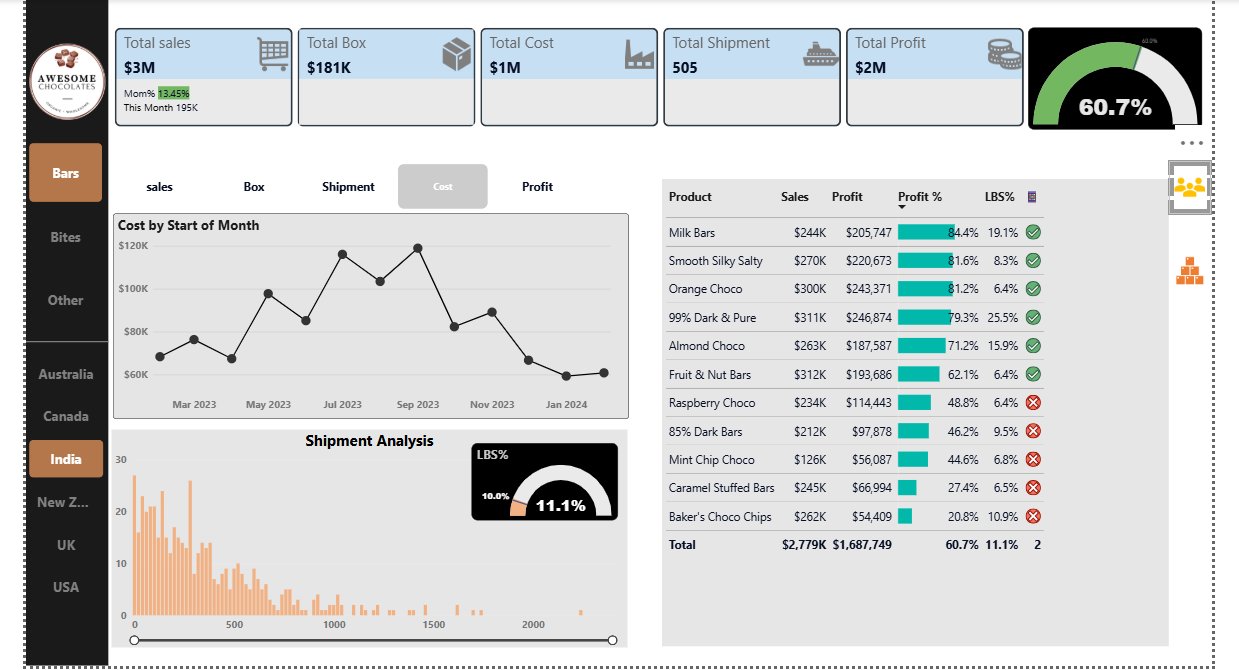

The dashboard page shown, as its layout file describes it:
{"tool":"powerbi","page":{"name":"Page 1","canvas":[1920,1080],"ordinal":0},"visuals":[{"type":"shape","box":[0,0,133.3,1079.5],"z":0},{"type":"cardVisual","fields":{"Data":["_Measures.Total sales","_Measures.Total Box","_Measures.Total Cost","_Measures.Total Shipment","_Measures.Total Profit"]},"box":[138.4,41.3,1484,170],"z":1000},{"type":"gauge","fields":{"Y":["_Measures.Profit %"]},"box":[1622.5,46.1,281.7,165.2],"z":2000},{"type":"image","box":[0,59,133.3,151.3],"z":3000},{"type":"lineChart","fields":{"Y":["_Measures.Total Cost"],"Category":["Celender(date).Start of Month"]},"box":[141,346.2,835,332.5],"z":4000},{"type":"advancedSlicerVisual","fields":{"Values":["Measure Selecter.Measure Selecter"]},"box":[137.5,262.5,770,82.5],"z":5000},{"type":"columnChart","title":"Shipment Analysis","fields":{"Category":["Shipment(Shipment)(in).Boxes (bins)"],"Y":["_Measures.Total Shipment"]},"box":[137.5,697.5,835,352.5],"z":6000},{"type":"gauge","fields":{"Y":["_Measures.LBS%"]},"box":[722.5,720,237.5,125],"z":7000},{"type":"tableEx","title":"Product Details","fields":{"Values":["Product(TABLE).Product","_Measures.Total sales","_Measures.Total Profit","_Measures.Profit %","_Measures.LBS%","_Measures.Profit Traget Indicater"]},"box":[1030.8,292.3,820.5,756.4],"z":9000},{"type":"image","title":"People Icon","box":[1851.3,261.5,66.7,84.6],"z":10000},{"type":"image","title":"Product Icon","box":[1851.3,389.7,66.7,102.6],"z":11000},{"type":"advancedSlicerVisual","fields":{"Values":["Product(TABLE).Category"]},"box":[0,228.2,128.2,312.8],"z":12000},{"type":"advancedSlicerVisual","fields":{"Values":["Location(data).Geo"]},"box":[0,571.8,130.8,420.5],"z":13000},{"type":"shape","box":[0,512.8,133.3,84.6],"z":14000}]}

Visuals, with their boxes in screenshot pixels (x1, y1, x2, y2):
shape: bbox(23, 0, 104, 658)
cardVisual - _Measures.Total sales x _Measures.Total Box: bbox(107, 22, 1017, 126)
gauge - _Measures.Profit %: bbox(1017, 25, 1190, 126)
image: bbox(23, 33, 104, 126)
lineChart - _Measures.Total Cost x Celender(date).Start of Month: bbox(109, 209, 621, 413)
advancedSlicerVisual - Measure Selecter.Measure Selecter: bbox(107, 158, 579, 208)
"Shipment Analysis" columnChart: bbox(107, 424, 619, 640)
gauge - _Measures.LBS%: bbox(465, 438, 611, 515)
"Product Details" tableEx: bbox(654, 176, 1157, 639)
"People Icon" image: bbox(1157, 157, 1198, 209)
"Product Icon" image: bbox(1157, 236, 1198, 298)
advancedSlicerVisual - Product(TABLE).Category: bbox(23, 137, 101, 328)
advancedSlicerVisual - Location(data).Geo: bbox(23, 347, 103, 605)
shape: bbox(23, 311, 104, 363)
